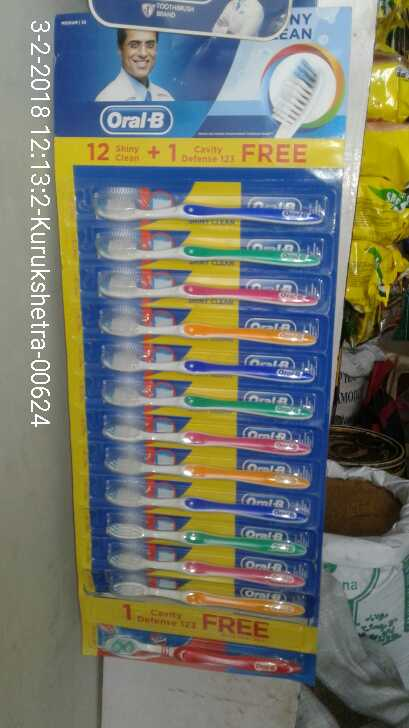oralb: (84, 167, 333, 223), (79, 223, 326, 272), (89, 538, 321, 588), (91, 301, 324, 349), (91, 259, 318, 301), (90, 447, 311, 488), (111, 580, 310, 624), (96, 482, 303, 524), (96, 517, 310, 557), (101, 347, 322, 384), (100, 380, 307, 416), (104, 420, 305, 451)
